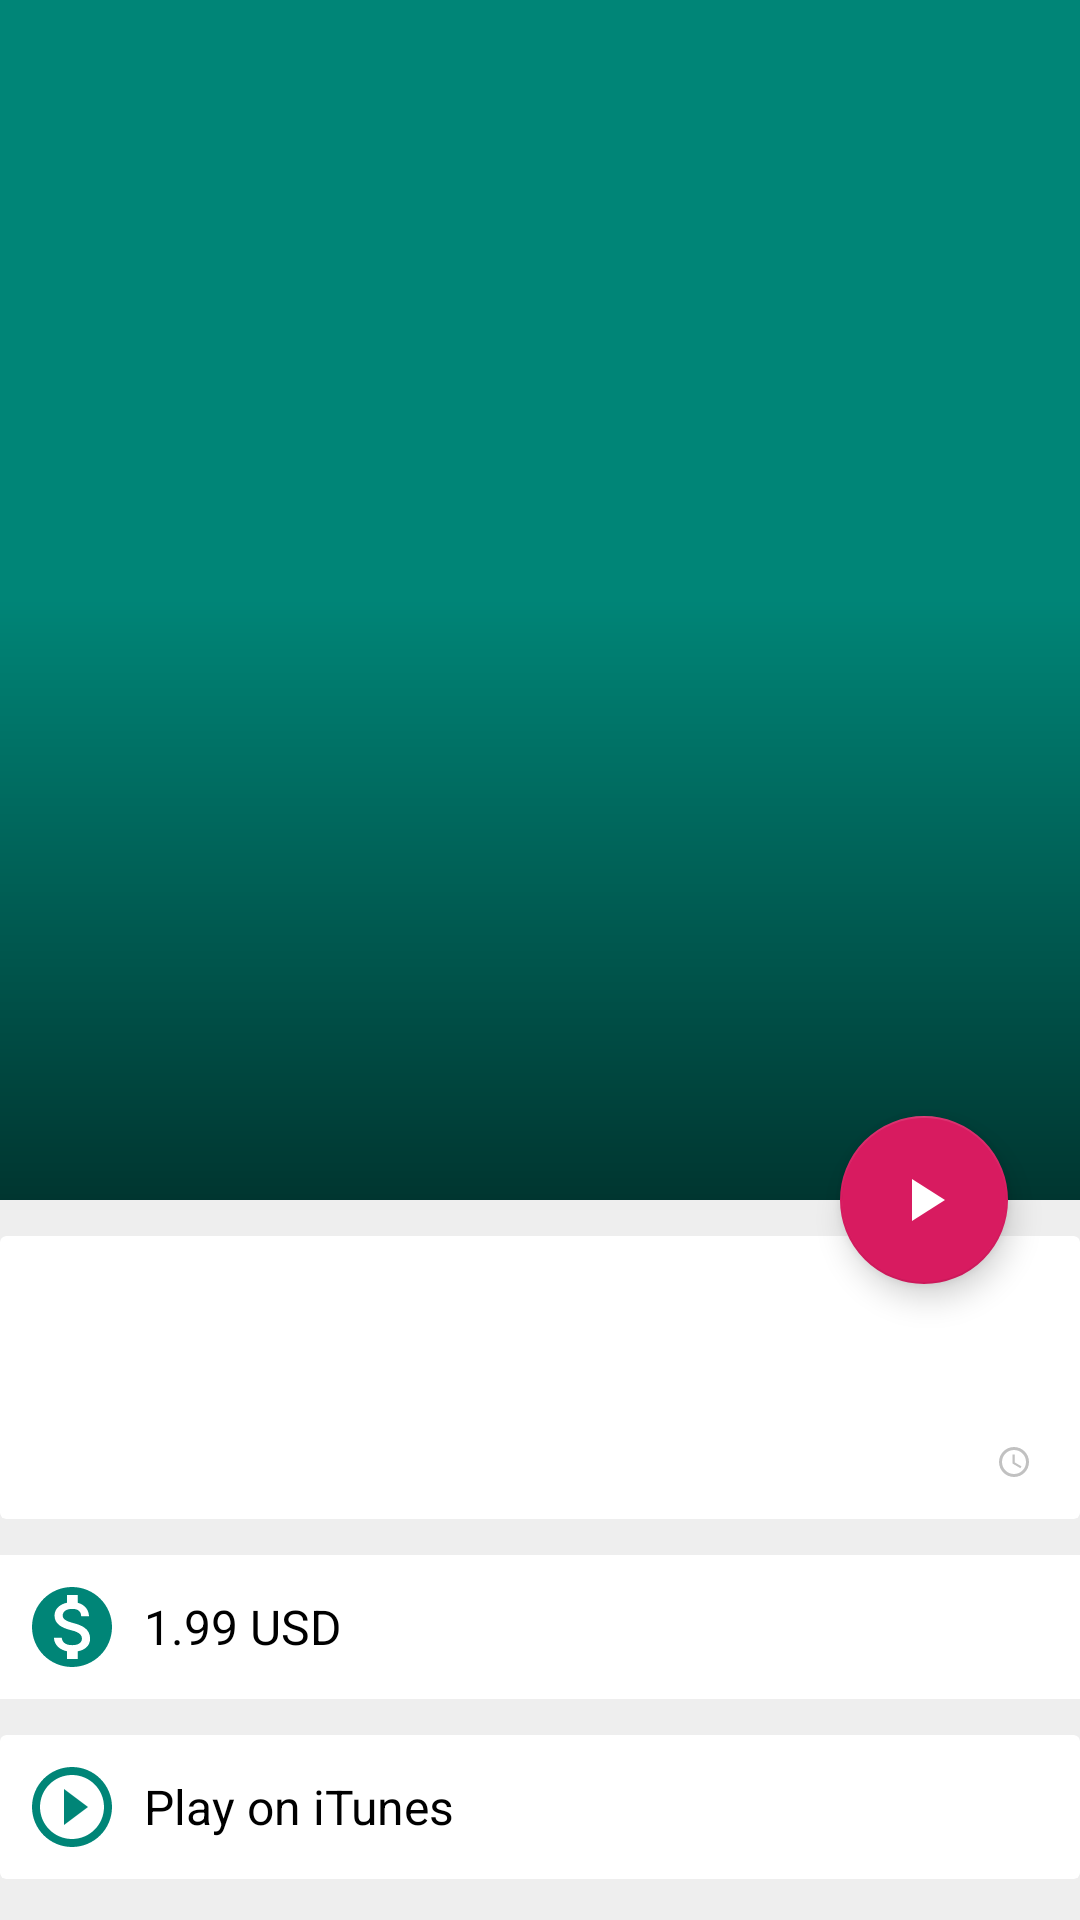

Icon click points for this 1080px x 1920px phone screenshot, format point (x, y):
play arrow: point (924, 1200)
